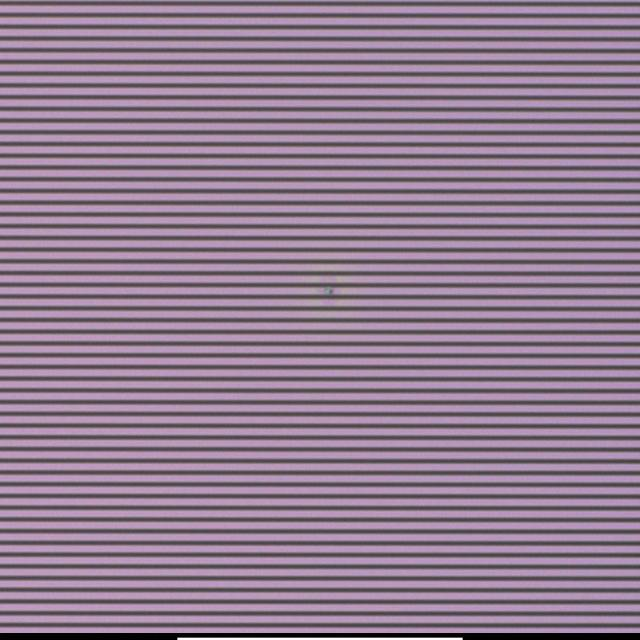nonvisual: (320, 279, 338, 302)
